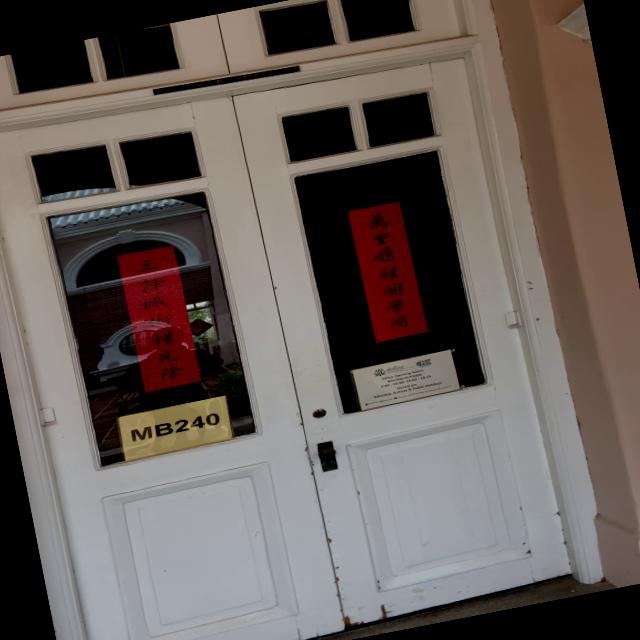room240: (118, 399, 229, 454)
